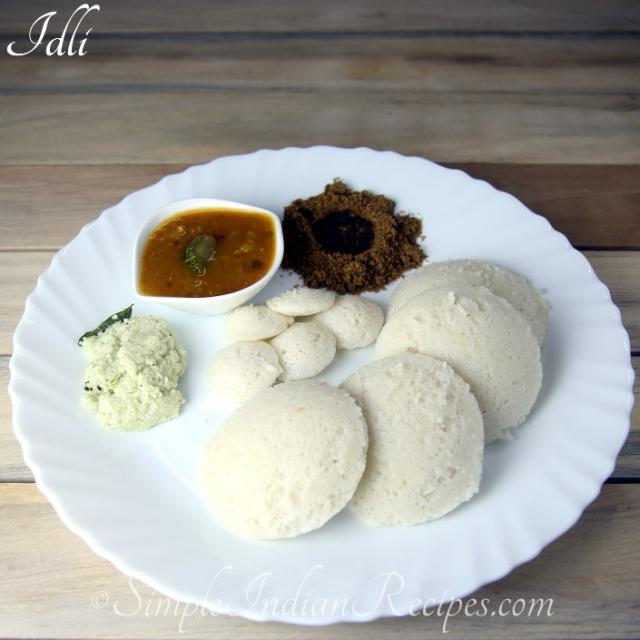IDLI: (201, 259, 549, 542)
